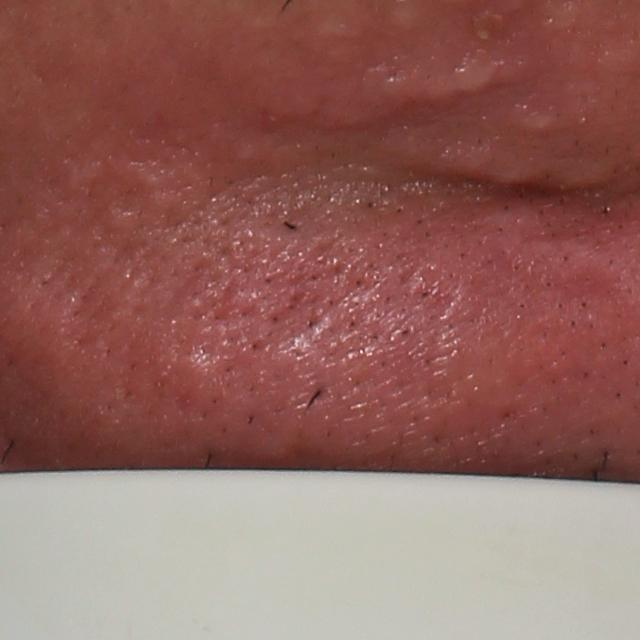hypertrophic_scar: (389, 136, 626, 198), (374, 52, 506, 112), (502, 74, 624, 134), (301, 0, 378, 61)
